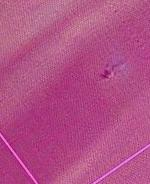knot: (98, 63, 122, 84)
